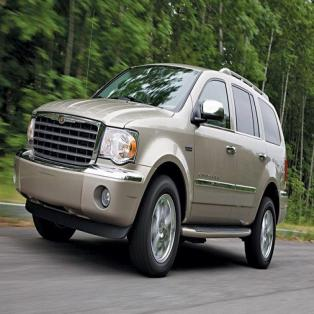Auto: (13, 49, 288, 274)
